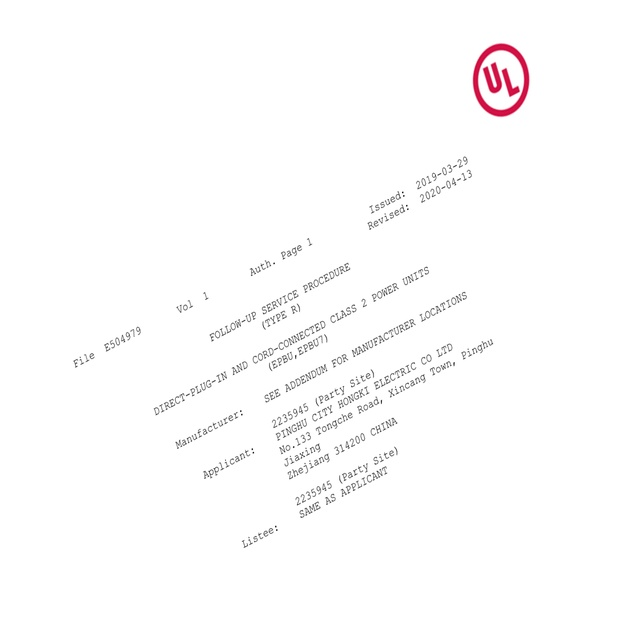ul: (471, 41, 531, 121)
